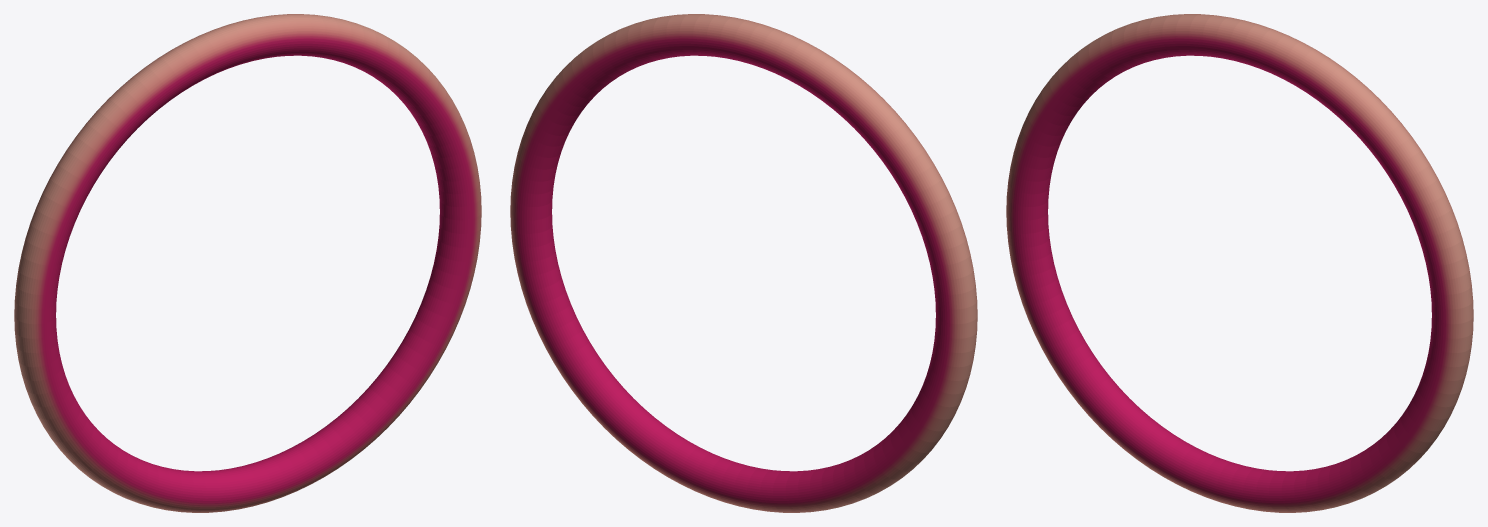
3 renders of one model, left to right at view 1: azimuth 30°, elevation 25°; view 2: azimuth 150°, elevation 25°; view 3: azimuth 330°, elevation 25°, orthographic.
Visible parts, largest first — view 1: world; view 2: world; view 3: world.
Part boxes in pixels (x1,y1,x2,y2): world: (14, 14, 481, 512); world: (510, 14, 977, 512); world: (1006, 14, 1473, 512).
Size of the model in its own units: 28.93 by 28.93 by 2.26.
